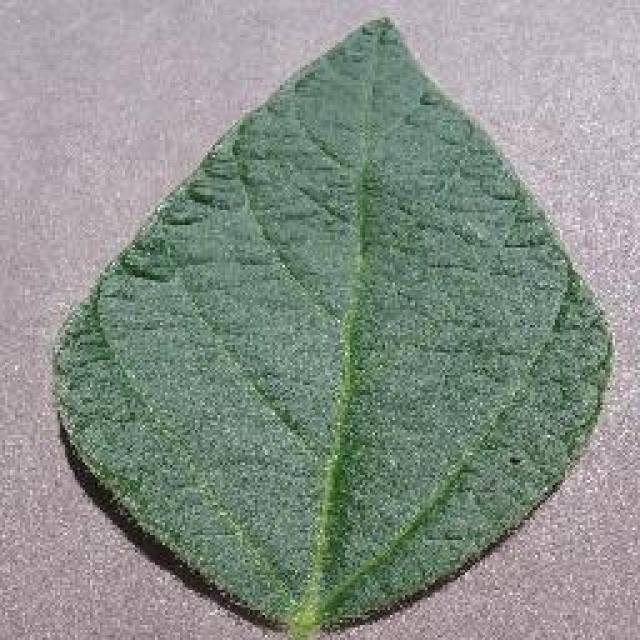Soy_healthy: (101, 91, 584, 562)
